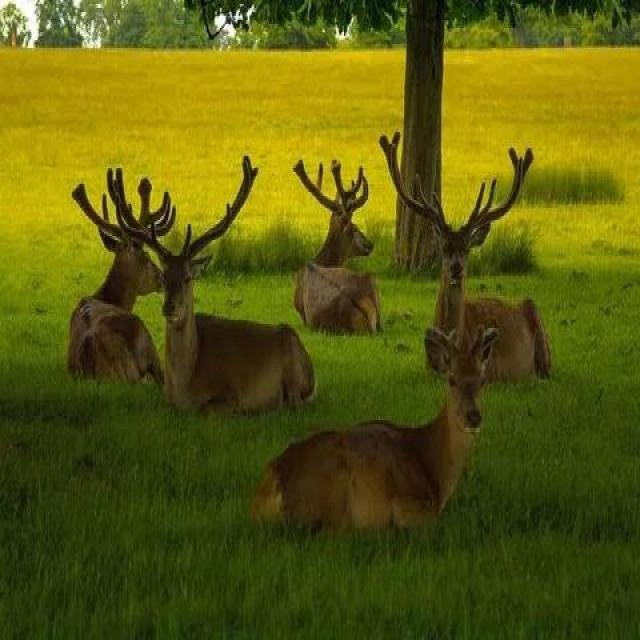deer: (223, 332, 548, 559), (400, 173, 600, 404), (134, 222, 320, 439), (54, 179, 180, 421), (272, 130, 396, 354)
